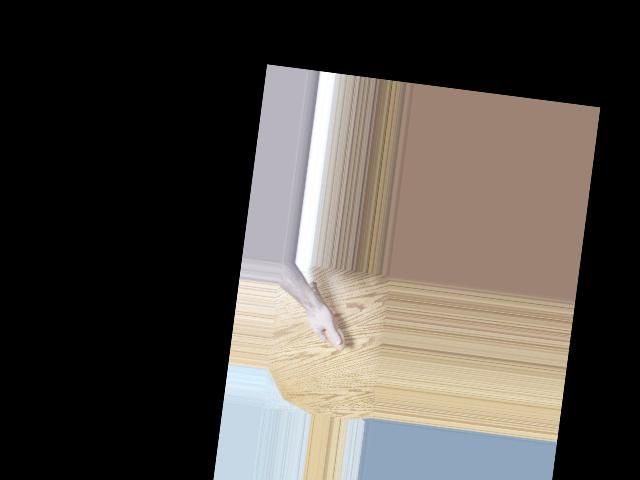sweet_potato: (299, 279, 352, 351)
